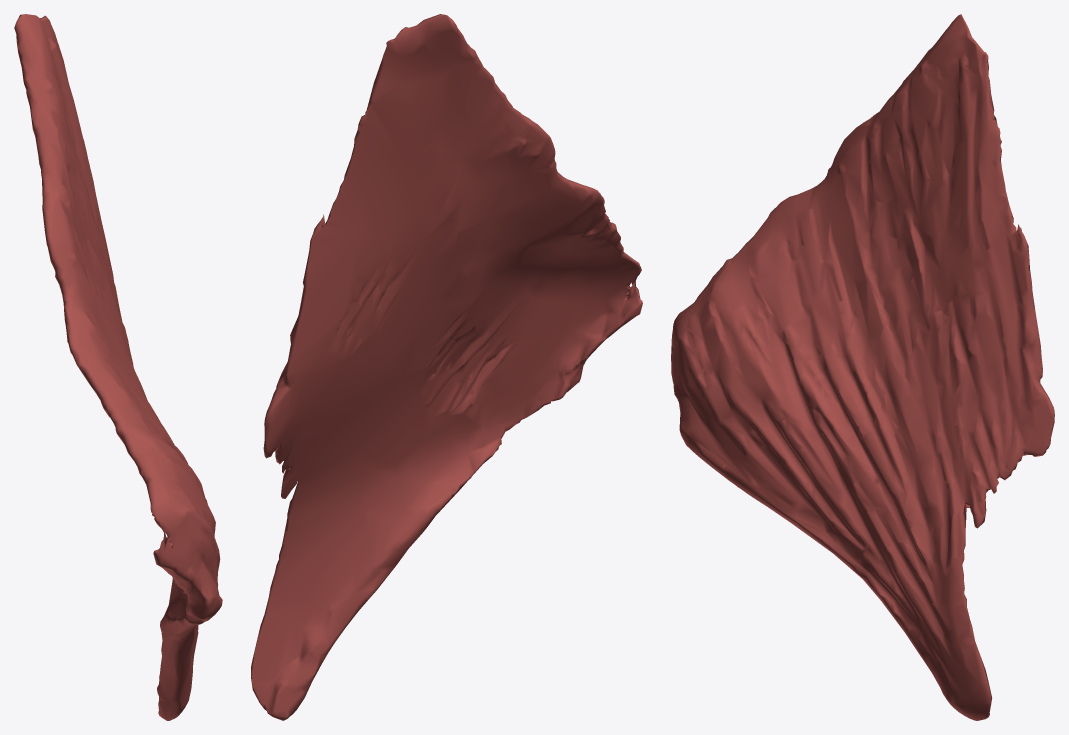
The model's file is FMA55607.glb.
The picture shows the model from 3 angles, left to right: view 1: azimuth 30°, elevation 25°; view 2: azimuth 150°, elevation 25°; view 3: azimuth 270°, elevation 25°; orthographic projection. The views are drawn at different scales.
Parts seen in each view (by area): view 1: FMA55607; view 2: FMA55607; view 3: FMA55607.
Part boxes in pixels (<box>): FMA55607: <box>14,14,222,720</box>; FMA55607: <box>251,14,642,720</box>; FMA55607: <box>671,14,1054,720</box>.
Size of the model in its own units: 0.0129 by 0.039 by 0.0211.
